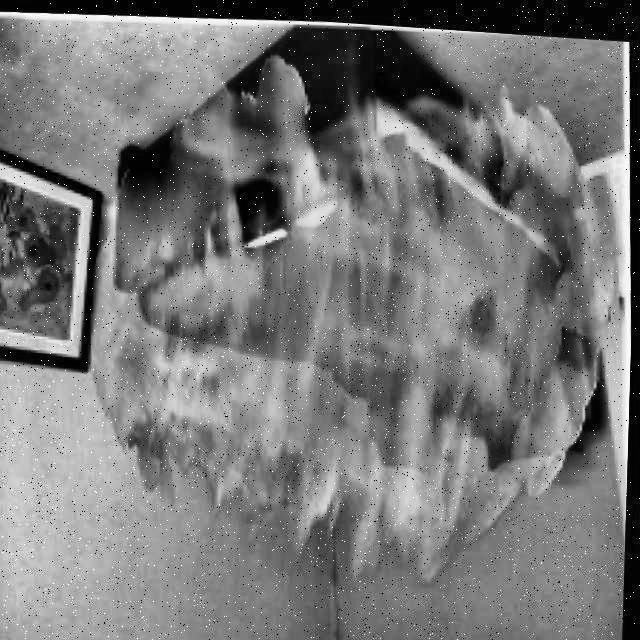Smoke: (86, 45, 618, 590)
